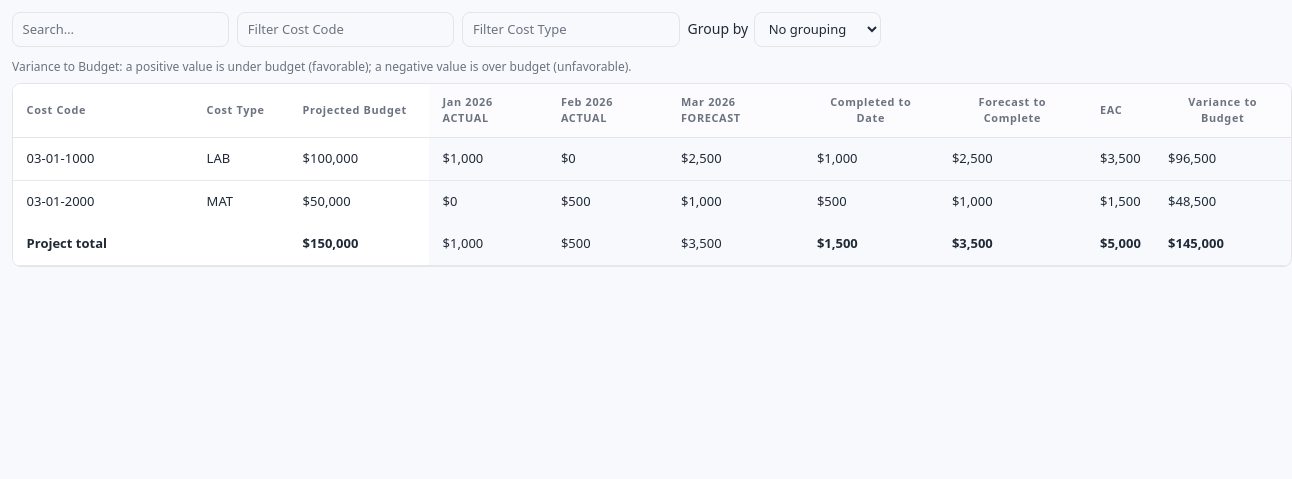
Test case: ForecastMonthlyMatrixTable › groups by Cost Type
The image size is (1292, 479).
Select "Cost Type" in the dropdown named "Group rows" at (818, 29), box 754,12 -> 881,47
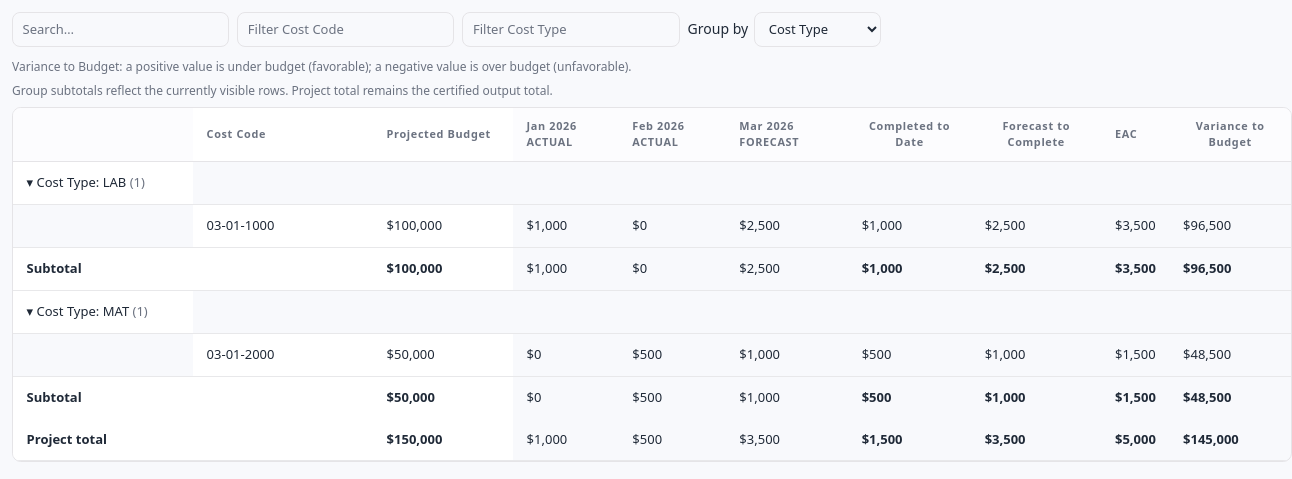
Check: the text "Cost Type: LAB" is shown, box 36,173 -> 126,191
Check: the text "Cost Type: MAT" is shown, box 36,302 -> 129,320
